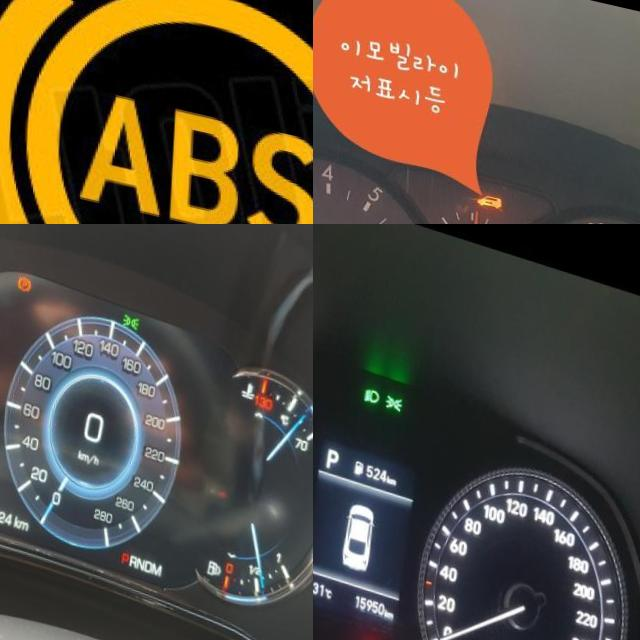Low beam: (364, 369, 381, 389)
SideLamp: (385, 375, 404, 395), (123, 294, 141, 312)
